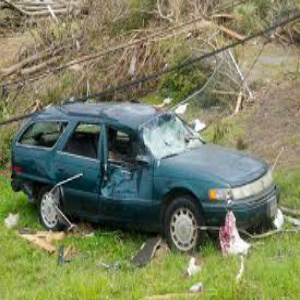door: (77, 164, 150, 216)
